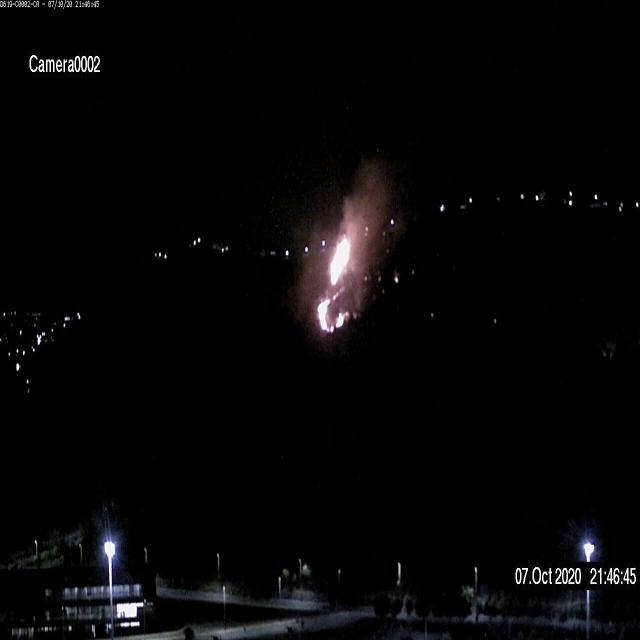Fire: (316, 225, 356, 336)
Smoke: (336, 154, 402, 255)
